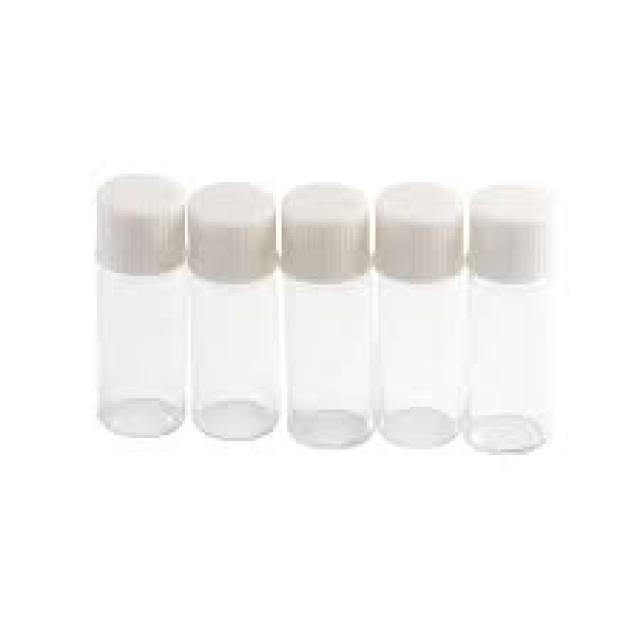glass: (282, 268, 373, 447), (94, 259, 182, 435), (461, 268, 546, 450), (375, 264, 458, 441), (191, 273, 279, 435)
plastic: (273, 179, 367, 279), (88, 174, 185, 268), (376, 179, 464, 279), (185, 176, 270, 279), (466, 185, 552, 279)
